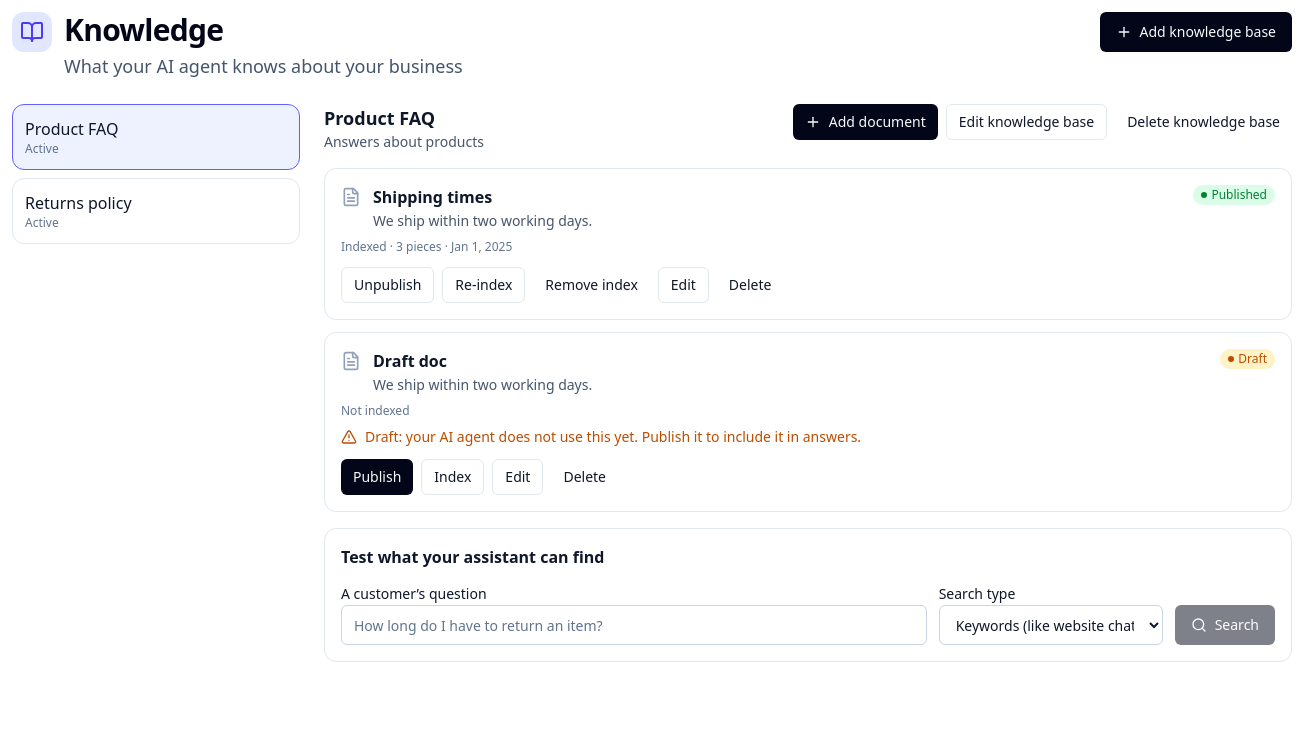
KnowledgePage › selects the first knowledge base, loads its documents, and switches on click
The image size is (1304, 732).
Expected: the heading "Shipping times" is shown, [373,186,492,208]
Expected: the heading "Product FAQ" is shown, [324,106,435,130]
Click the button "Returns policy Active". click: click(78, 203)
box: [12,178,300,244]
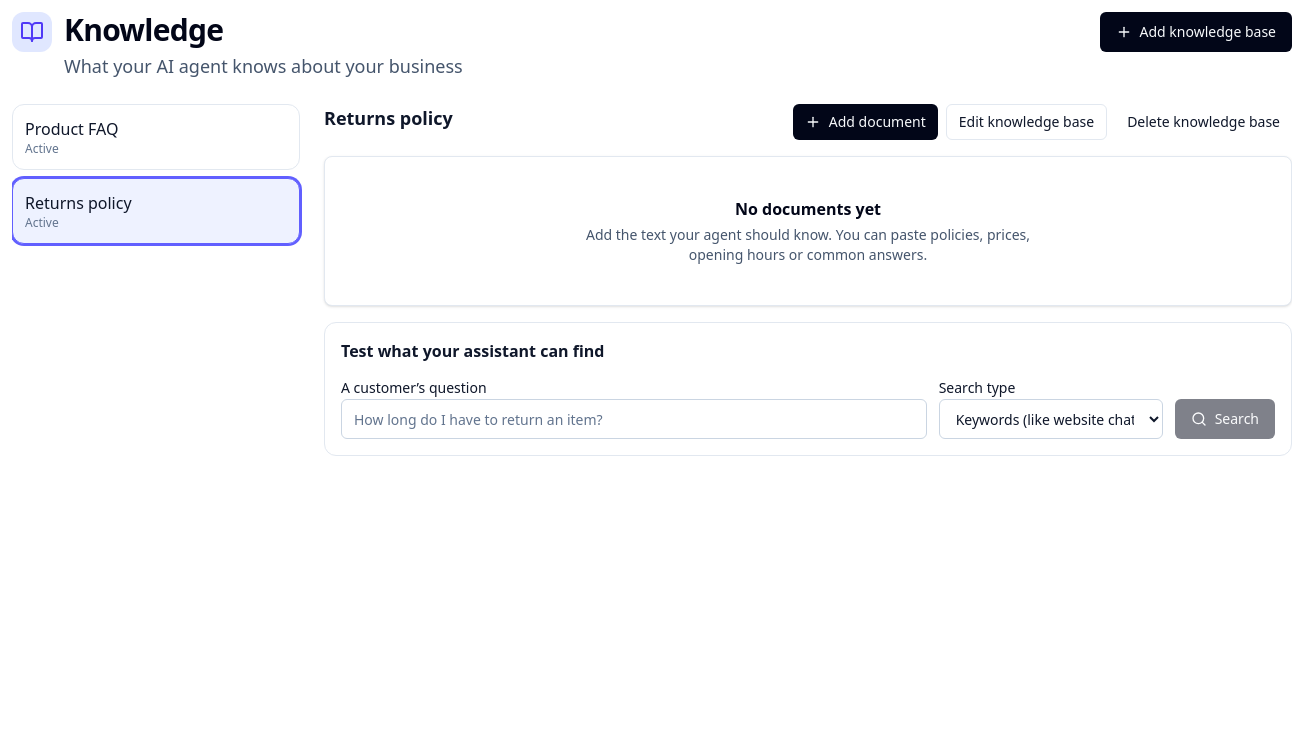
Expected: the heading "No documents yet" is shown, [735,198,881,220]
Expected: the heading "Returns policy" is shown, [324,104,453,132]
